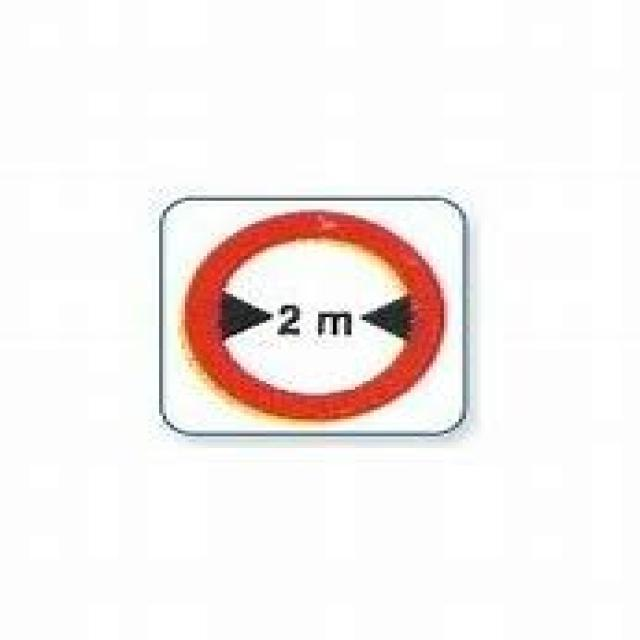width limit: (179, 210, 453, 424)
